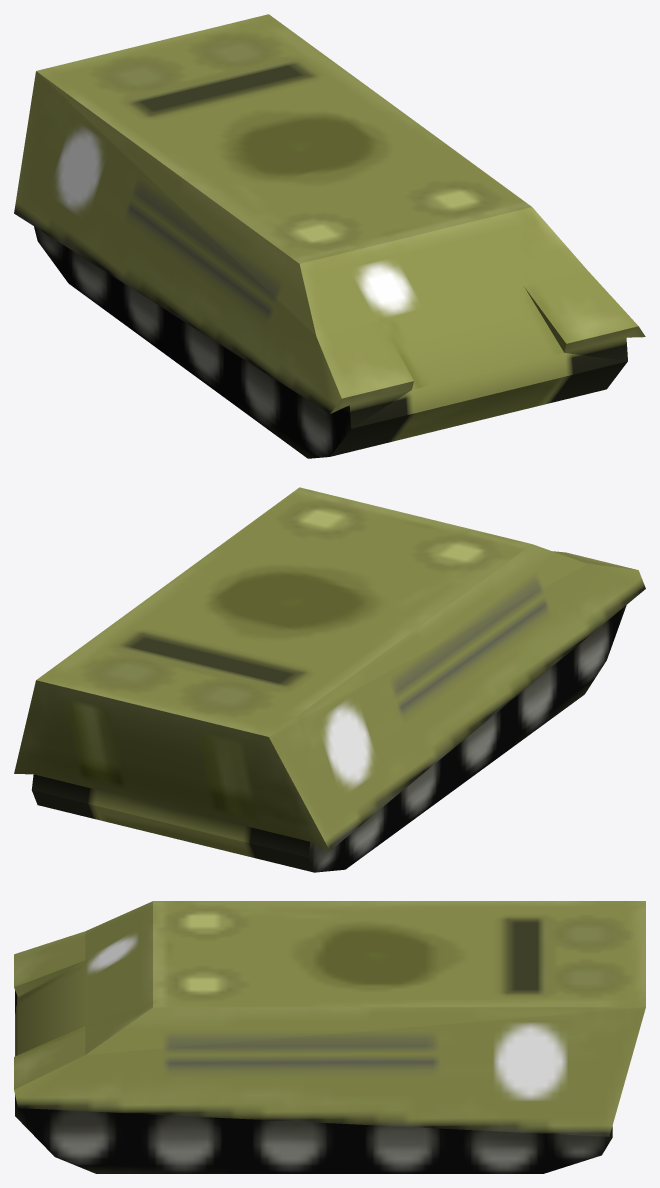
The model's file is tankBody.fbx.
3 renders of one model, top to bottom at view 1: azimuth 30°, elevation 25°; view 2: azimuth 150°, elevation 25°; view 3: azimuth 270°, elevation 25°, orthographic. The views are drawn at different scales.
Visible parts, largest first — view 1: tankBody; view 2: tankBody; view 3: tankBody.
Part boxes in pixels (x1,y1,x2,y2): tankBody: (14,14,645,458); tankBody: (14,487,645,872); tankBody: (14,901,645,1173).
Bounding box in the file's own units: 0.3264 × 0.1652 × 0.6046.
